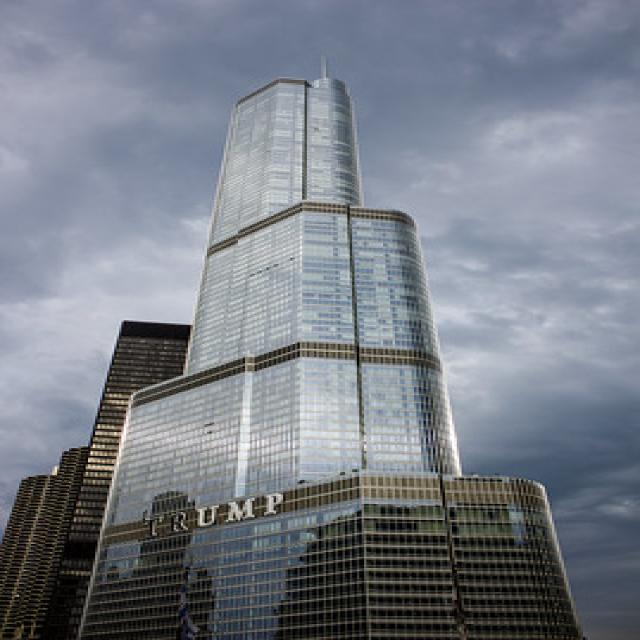building: (68, 67, 596, 640)
